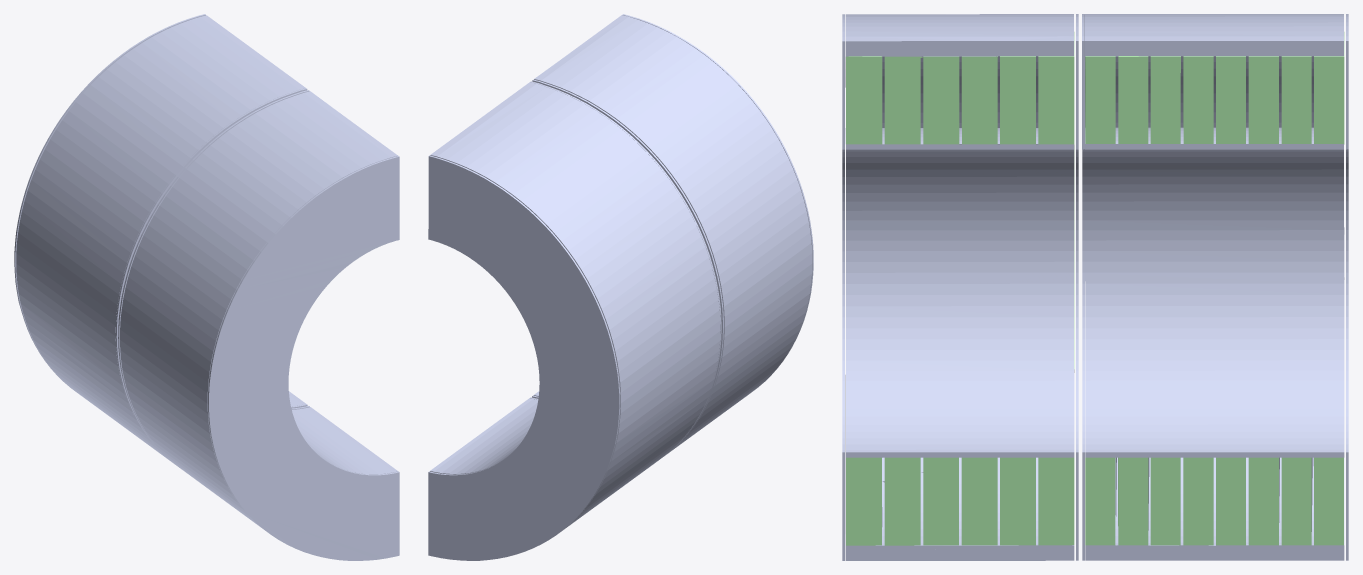
Rendered from TRT-SideC-cut2.glb.
3 views of the same model, side by side, from view 1: azimuth 30°, elevation 25°; view 2: azimuth 150°, elevation 25°; view 3: azimuth 270°, elevation 25° (orthographic). The views are drawn at different scales.
Parts seen in each view (by area): view 1: null; view 2: null; view 3: null.
Part boxes in pixels (x1,y1,x2,y2): null: [14, 14, 399, 560]; null: [428, 14, 813, 560]; null: [842, 14, 1348, 560].
Size of the model in its own units: 1.07 by 2.14 by 1.89.
